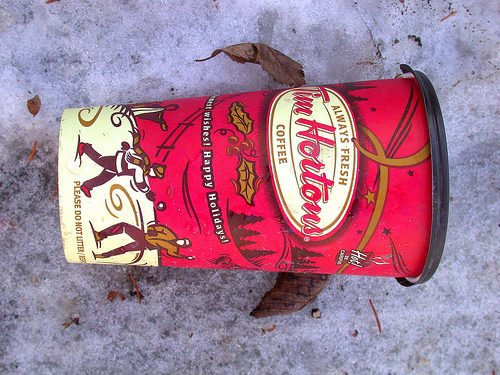litter: (57, 63, 451, 287)
